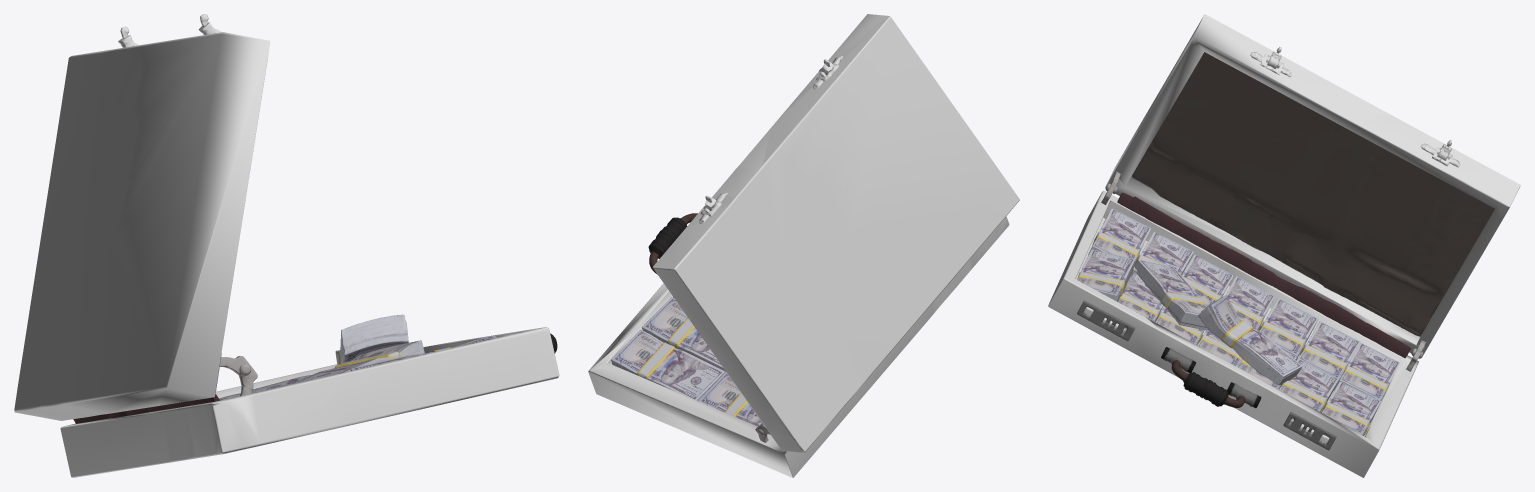
Rendered from cashobjcase.fbx.
The picture shows the model from 3 angles, left to right: view 1: azimuth 30°, elevation 25°; view 2: azimuth 150°, elevation 25°; view 3: azimuth 270°, elevation 25°; orthographic projection. The views are drawn at different scales.
Parts seen in each view (by area): view 1: Layer_2 (×3), node_id3 (×2), Layer_4; view 2: Layer_2 (×2), node_id3 (×3), Layer_3, Layer_6; view 3: Layer_2 (×3), node_id3 (×15), Layer_4, Layer_3, Layer_6.
Part boxes in pixels (box(x1,y1,x2,y2)): Layer_2 (×3): box(14, 32, 559, 477); node_id3 (×2): box(287, 314, 424, 385); Layer_4: box(220, 356, 257, 396); Layer_2 (×2): box(588, 14, 1019, 477); node_id3 (×3): box(611, 297, 762, 426); Layer_3: box(648, 213, 697, 274); Layer_6: box(699, 56, 843, 223); Layer_2 (×3): box(1048, 14, 1520, 477); node_id3 (×15): box(1077, 208, 1399, 435); Layer_4: box(1077, 172, 1425, 450); Layer_3: box(1171, 360, 1245, 407); Layer_6: box(1250, 47, 1460, 167).
Size of the model in its own units: 0.0195 by 0.0257 by 0.0228.
